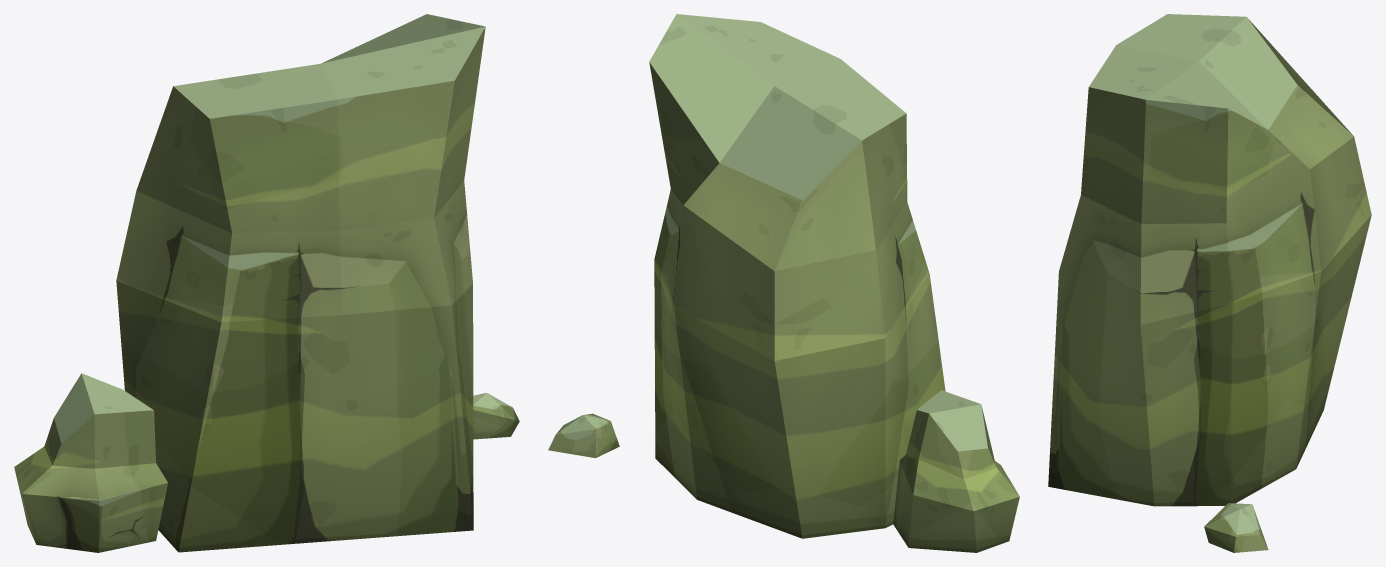
The model's file is F_W_O_rock_013.fbx.
3 views of the same model, side by side, from view 1: azimuth 30°, elevation 25°; view 2: azimuth 150°, elevation 25°; view 3: azimuth 270°, elevation 25° (orthographic). The views are drawn at different scales.
Visible parts, largest first — view 1: F_W_O_rock_013; view 2: F_W_O_rock_013; view 3: F_W_O_rock_013.
Boxes of the visible parts, bbox=[...] form: F_W_O_rock_013: bbox=[14, 14, 519, 552]; F_W_O_rock_013: bbox=[548, 14, 1019, 552]; F_W_O_rock_013: bbox=[1048, 14, 1371, 552].
Bounding box in the file's own units: 9.87 × 8.44 × 5.94.
